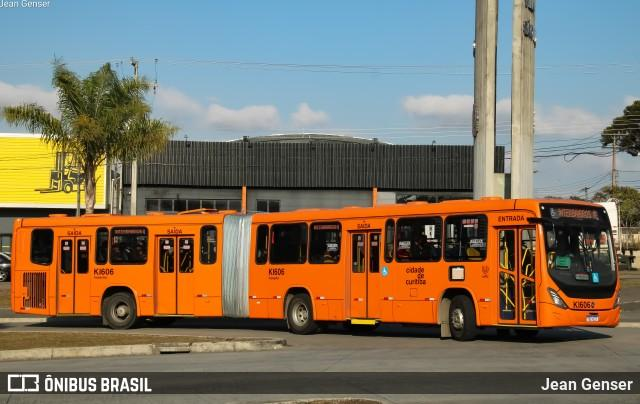INTERBAIRROS III: (555, 207, 599, 220)
